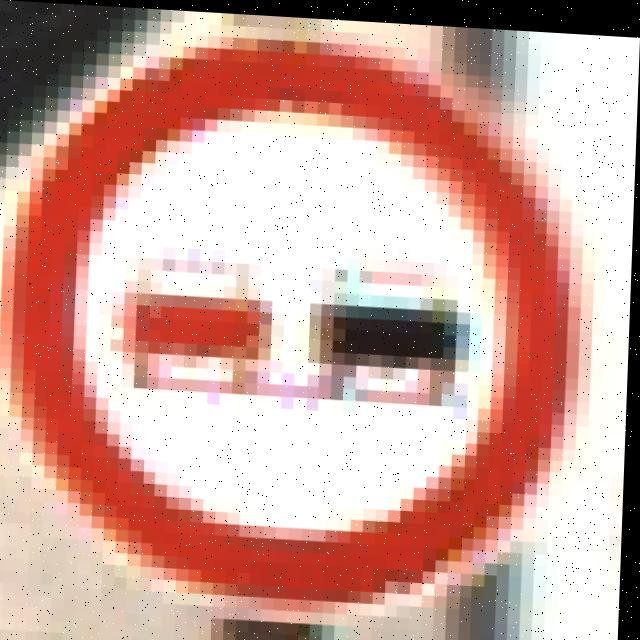no_overtaking: (7, 30, 587, 640)
